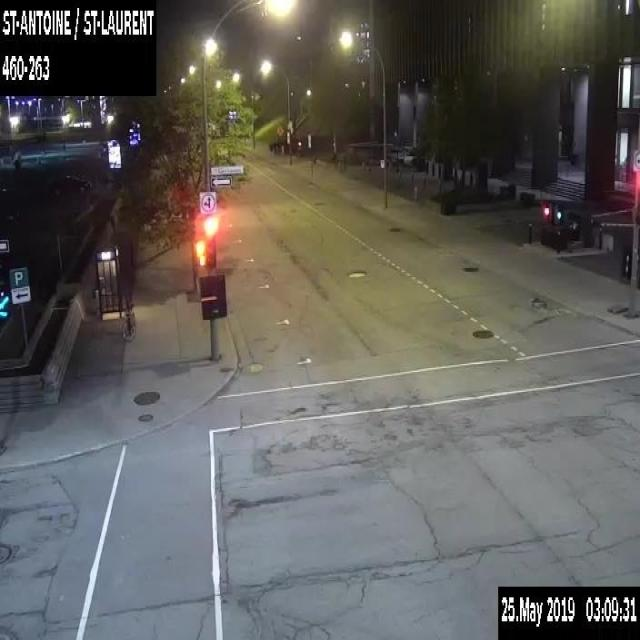construction: (274, 124, 284, 137)
